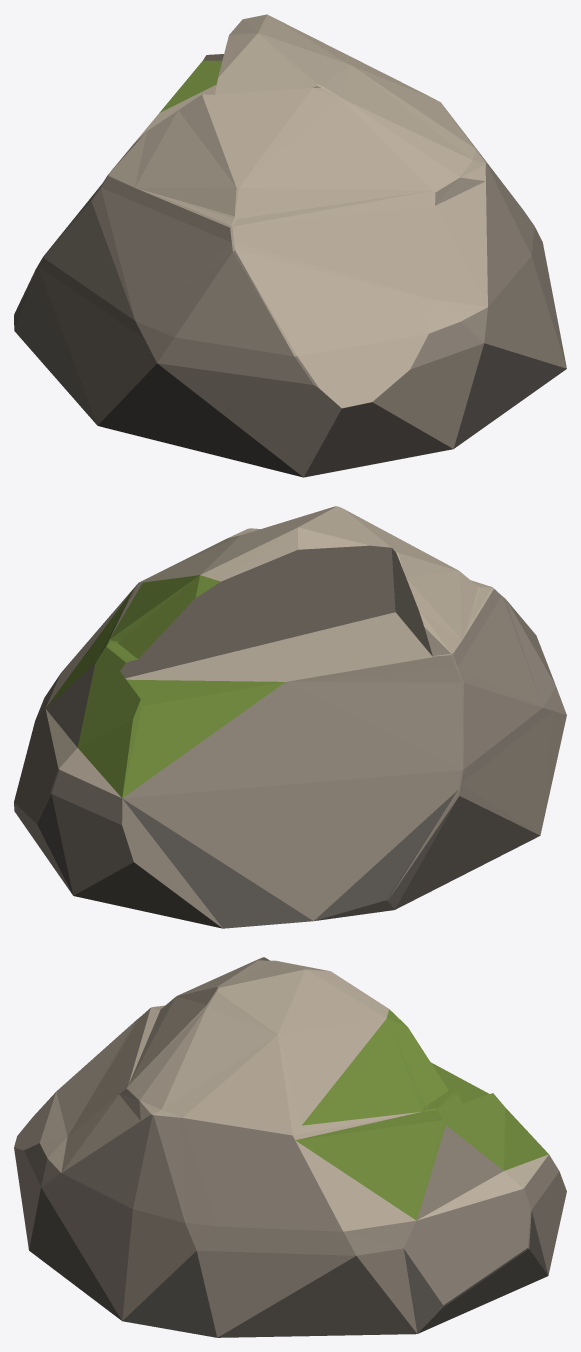
3 renders of one model, top to bottom at view 1: azimuth 30°, elevation 25°; view 2: azimuth 150°, elevation 25°; view 3: azimuth 270°, elevation 25°, orthographic. The views are drawn at different scales.
Parts seen in each view (by area): view 1: rock; view 2: rock; view 3: rock.
Boxes of the visible parts, bbox=[...] form: rock: bbox=[14, 14, 566, 477]; rock: bbox=[14, 506, 566, 928]; rock: bbox=[14, 957, 566, 1337].
Size of the model in its own units: 1.3 by 0.85 by 1.6.
